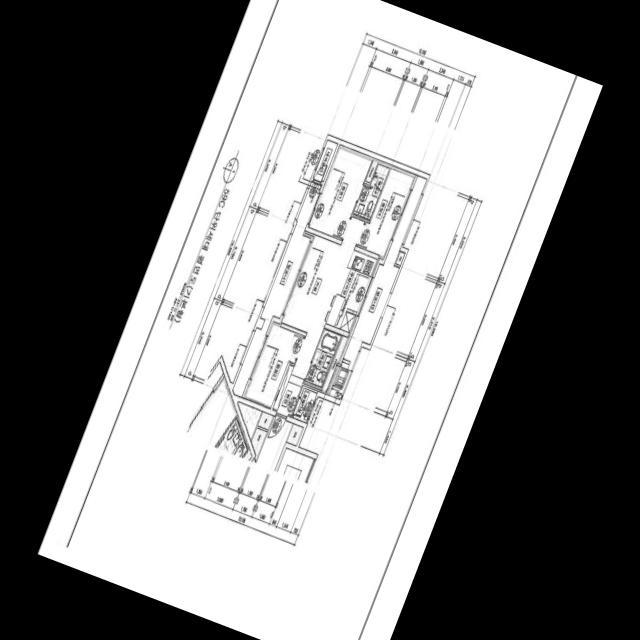background: (37, 0, 603, 640)
space_balconi: (328, 176, 426, 399), (232, 182, 321, 397)
space_bedroom: (309, 145, 373, 240), (357, 166, 415, 259), (244, 322, 304, 408)
space_front: (272, 372, 304, 416)
space_kitchen: (325, 250, 378, 333)
space_living_room: (281, 217, 364, 379)
space_other: (255, 416, 293, 471), (321, 336, 348, 394), (277, 448, 313, 482), (313, 140, 337, 181), (237, 402, 261, 440), (251, 428, 267, 461), (286, 424, 303, 446), (365, 158, 378, 182), (257, 412, 273, 430), (395, 252, 405, 265)
space_outdoor_room: (293, 389, 317, 423)
space_toilet: (305, 330, 341, 387), (353, 164, 389, 220)
